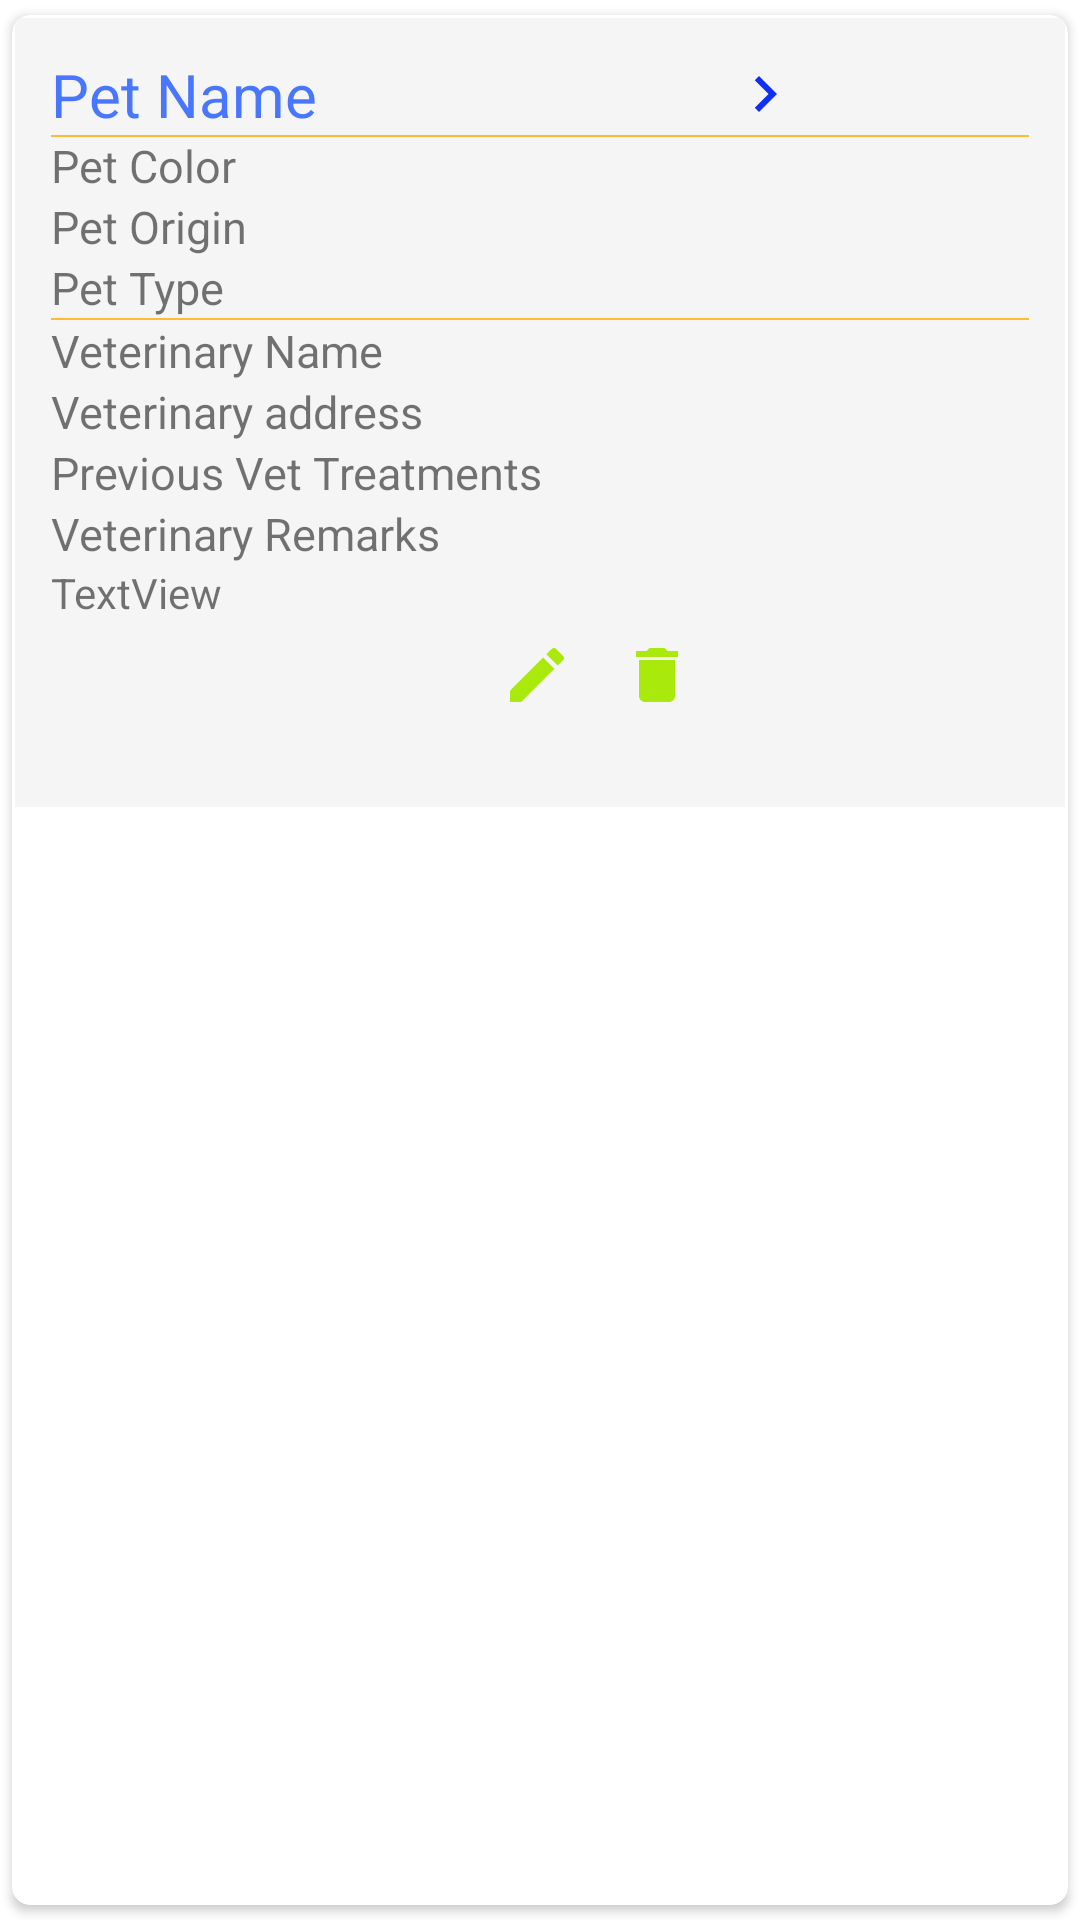

Icon bounding boxes for this 1080w x 1920h phone screenshot, format (left=x1, top=y1, right=x2, bottom=y2):
delete: (left=636, top=648, right=678, bottom=702)
edit: (left=510, top=648, right=564, bottom=702)
